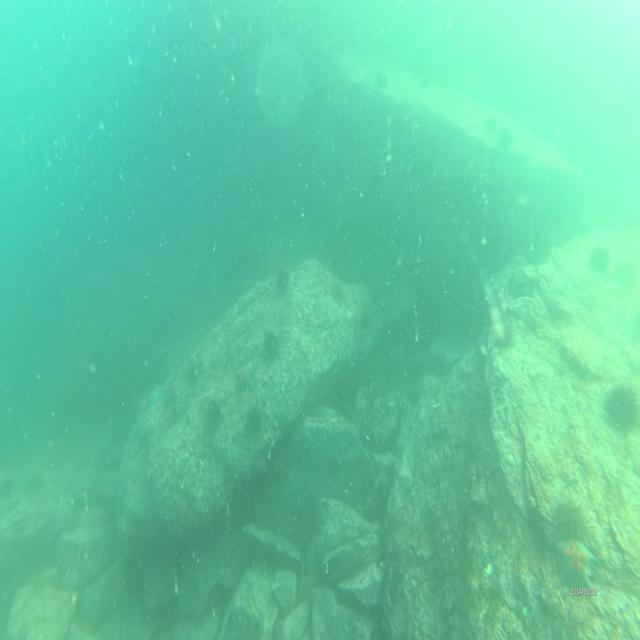echinus: (606, 380, 638, 426), (552, 500, 589, 536), (588, 237, 613, 274), (245, 406, 263, 441), (273, 263, 292, 295), (328, 277, 346, 304), (264, 329, 278, 361), (207, 395, 222, 421)
starfish: (549, 538, 598, 592)
